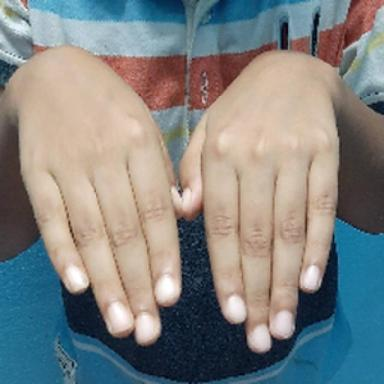normal skin: (0, 46, 384, 352)
